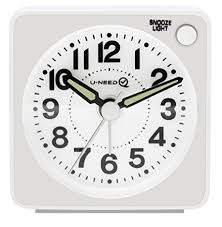alarm_clock: (4, 3, 219, 215)
